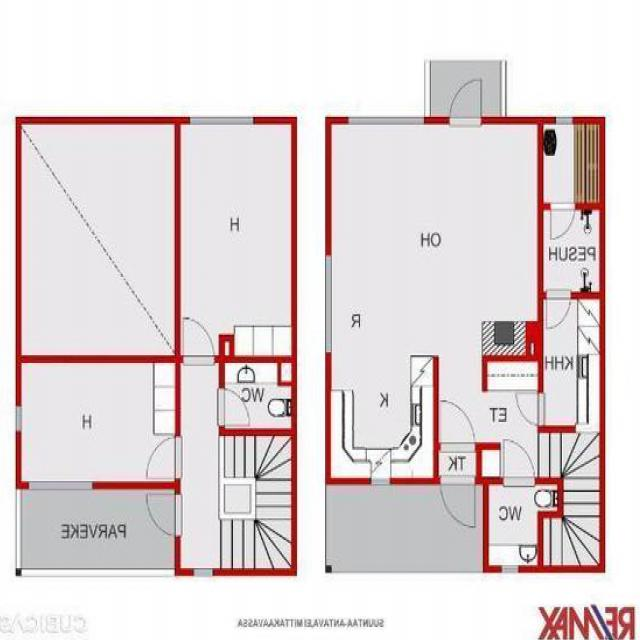door: (440, 476, 474, 529), (441, 398, 475, 450), (503, 434, 535, 484), (183, 314, 215, 363), (144, 494, 181, 536), (144, 436, 181, 478), (450, 76, 480, 124), (219, 387, 252, 425), (546, 292, 571, 332), (551, 203, 574, 241), (515, 392, 543, 423)
